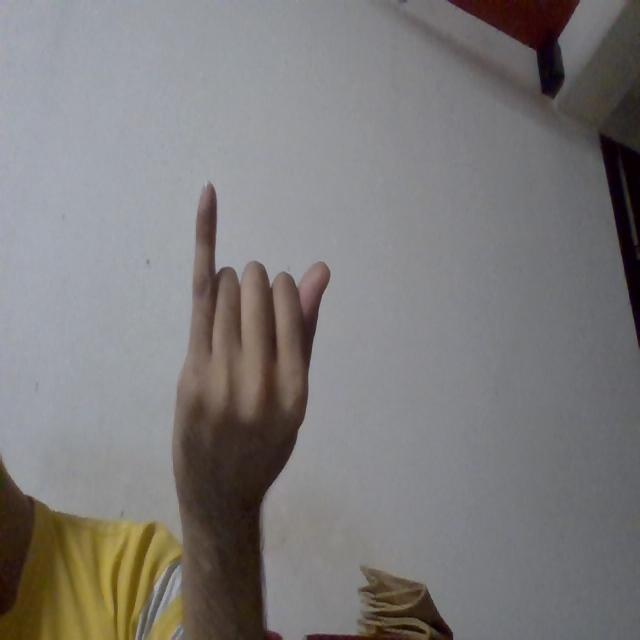J: (158, 160, 364, 589)
